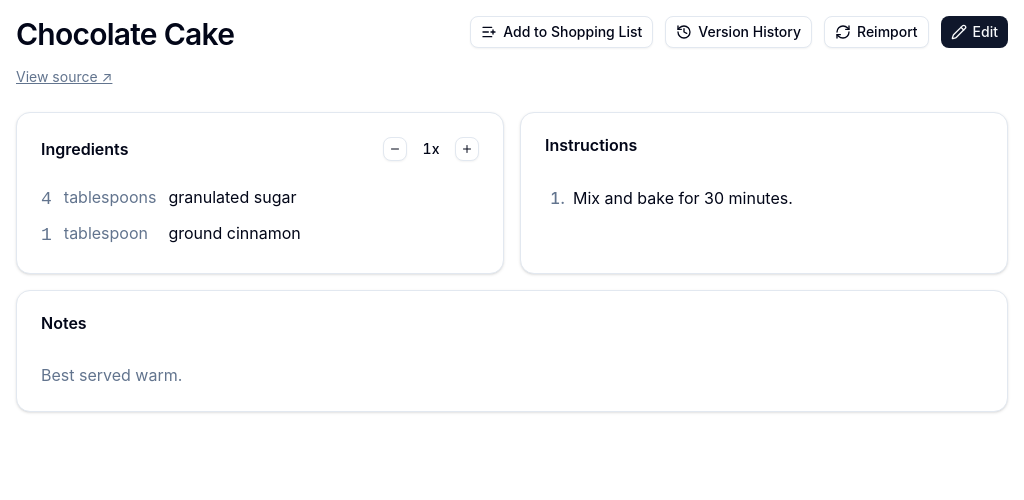
Test: RecipeDetailPage › renders an error banner when reimport fails
The image size is (1024, 500).
Check: the heading "Chocolate Cake" is shown, box [16,16,234,60]
Click the button "Reimport" at [876, 32], box [824,16,929,48]
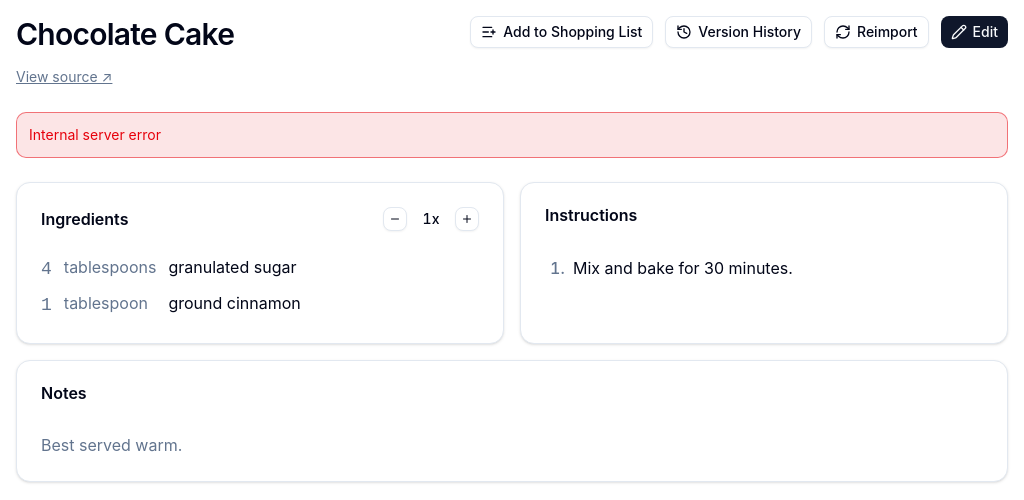
Check: the message reads "Internal server error", box [29,126,161,143]
